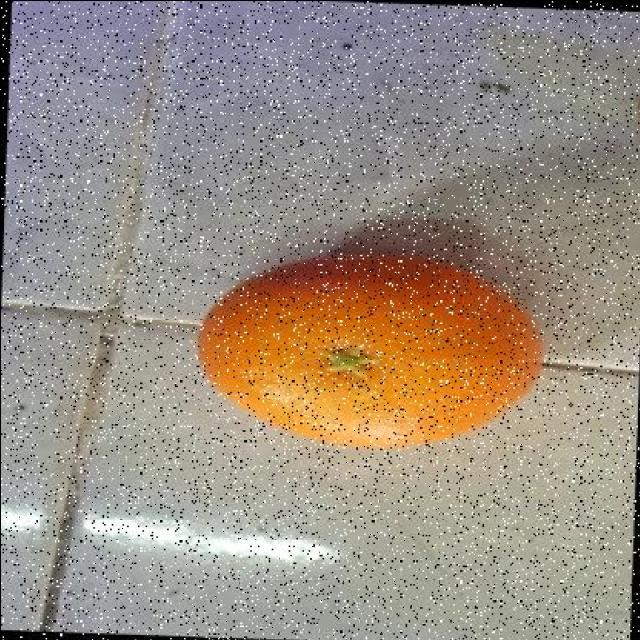Orange: (197, 250, 546, 452)
